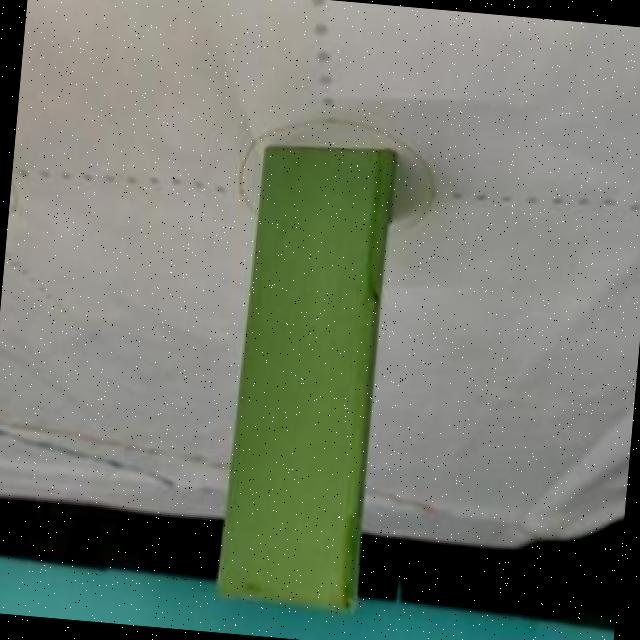greenbox: (210, 137, 400, 618)
